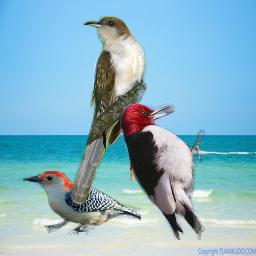Cuckoo: (71, 16, 147, 204)
Woodpecker: (120, 103, 205, 240), (23, 171, 141, 235)
